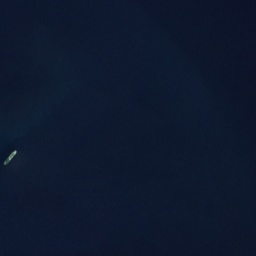Ship: (3, 150, 18, 166)
